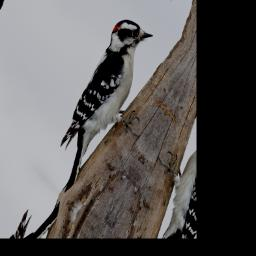Woodpecker: (40, 2, 179, 225)
